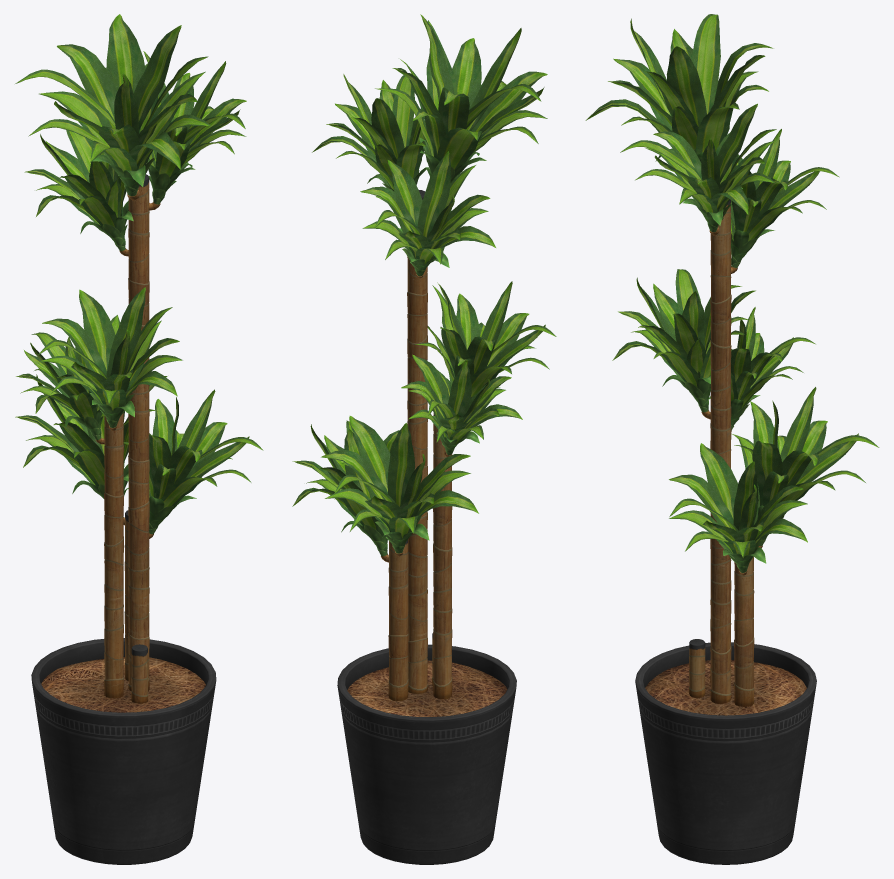
File: BP_RoomPlantsSet01_DracaenaB.fbx
The picture shows the model from 3 angles, left to right: view 1: azimuth 30°, elevation 25°; view 2: azimuth 150°, elevation 25°; view 3: azimuth 270°, elevation 25°; orthographic projection. The views are drawn at different scales.
Parts seen in each view (by area): view 1: Ha, Hachi, Miki, Ha_ura, Tsuchi; view 2: Ha, Hachi, Miki, Ha_ura, Tsuchi; view 3: Ha, Hachi, Ha_ura, Miki, Tsuchi.
Part boxes in pixels (left/top/right/bottom): Ha: left=15, top=14, right=263, bottom=534; Hachi: left=31, top=638, right=216, bottom=864; Miki: left=95, top=174, right=160, bottom=703; Ha_ura: left=20, top=14, right=260, bottom=534; Tsuchi: left=41, top=657, right=205, bottom=712; Ha: left=292, top=14, right=556, bottom=556; Hachi: left=337, top=644, right=516, bottom=864; Miki: left=381, top=190, right=452, bottom=701; Ha_ura: left=294, top=18, right=554, bottom=555; Tsuchi: left=347, top=660, right=507, bottom=716; Ha: left=585, top=14, right=879, bottom=572; Hachi: left=635, top=642, right=816, bottom=864; Ha_ura: left=587, top=14, right=877, bottom=572; Miki: left=689, top=199, right=762, bottom=706; Tsuchi: left=645, top=660, right=806, bottom=715.
Bounding box in the file's own units: 55.32 × 185 × 61.2.
